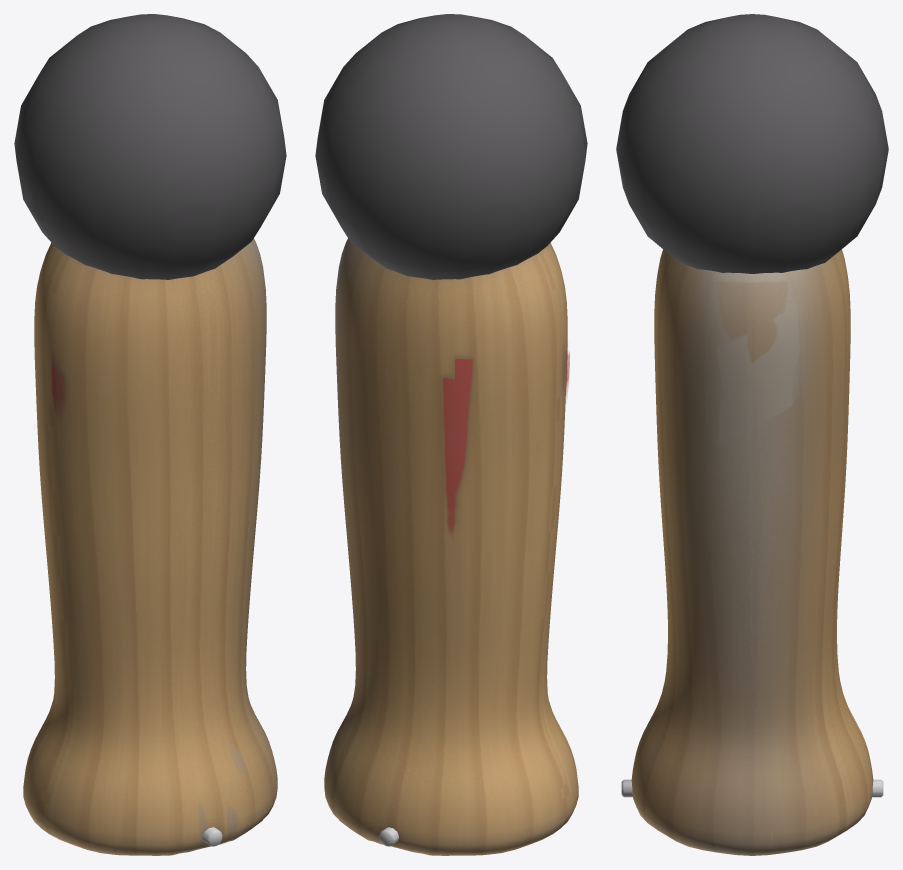
Rendered from UpperArm_R.glb.
3 renders of one model, left to right at view 1: azimuth 30°, elevation 25°; view 2: azimuth 150°, elevation 25°; view 3: azimuth 270°, elevation 25°, orthographic.
Visible parts, largest first — view 1: UpperArm_R, UpperArm_R_Ball, UpperArm_R_Paint; view 2: UpperArm_R, UpperArm_R_Ball, UpperArm_R_Paint; view 3: UpperArm_R, UpperArm_R_Ball.
Part boxes in pixels (x1,y1,x2,y2): UpperArm_R: [23, 238, 277, 855]; UpperArm_R_Ball: [14, 14, 286, 279]; UpperArm_R_Paint: [51, 353, 64, 416]; UpperArm_R: [324, 238, 578, 855]; UpperArm_R_Ball: [315, 14, 587, 279]; UpperArm_R_Paint: [442, 343, 569, 536]; UpperArm_R: [631, 249, 873, 855]; UpperArm_R_Ball: [616, 14, 888, 273].
Size of the model in its own units: 0.116 by 0.3677 by 0.116.
4 materials, 2 textured.
